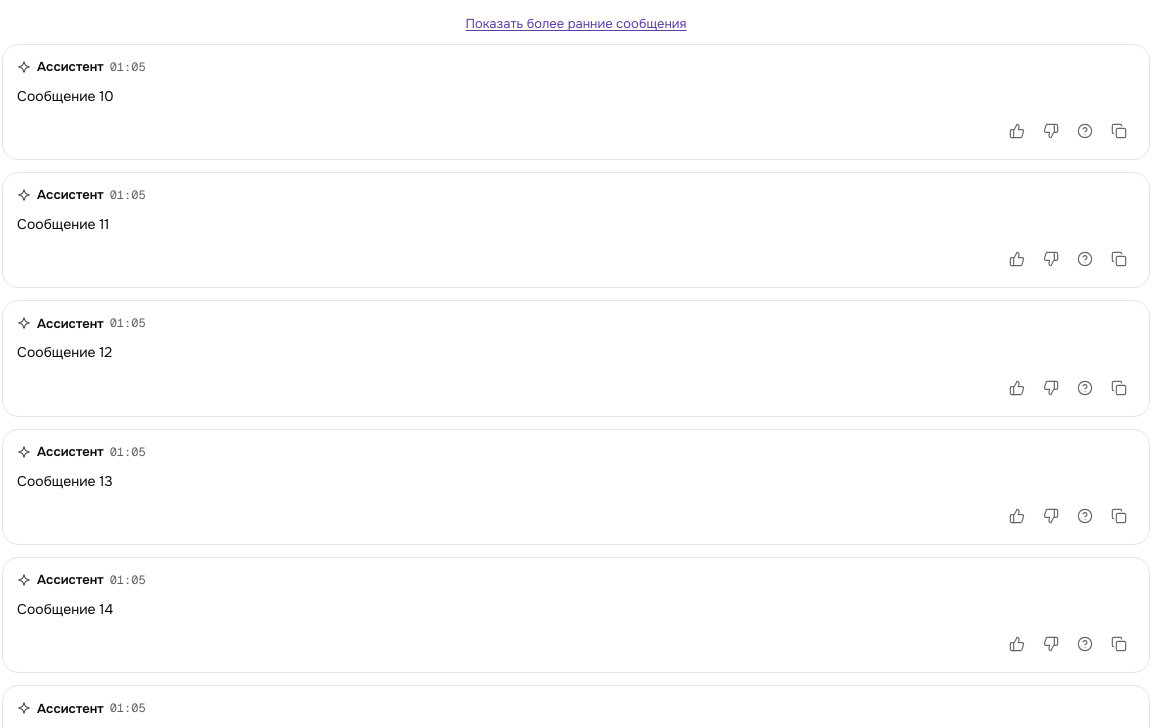
Test: M13: снимок обрезан — «Показать более ранние сообщения» дочитывает ленту
Click the button with class "chat__more": (576, 24) [466,14,686,34]
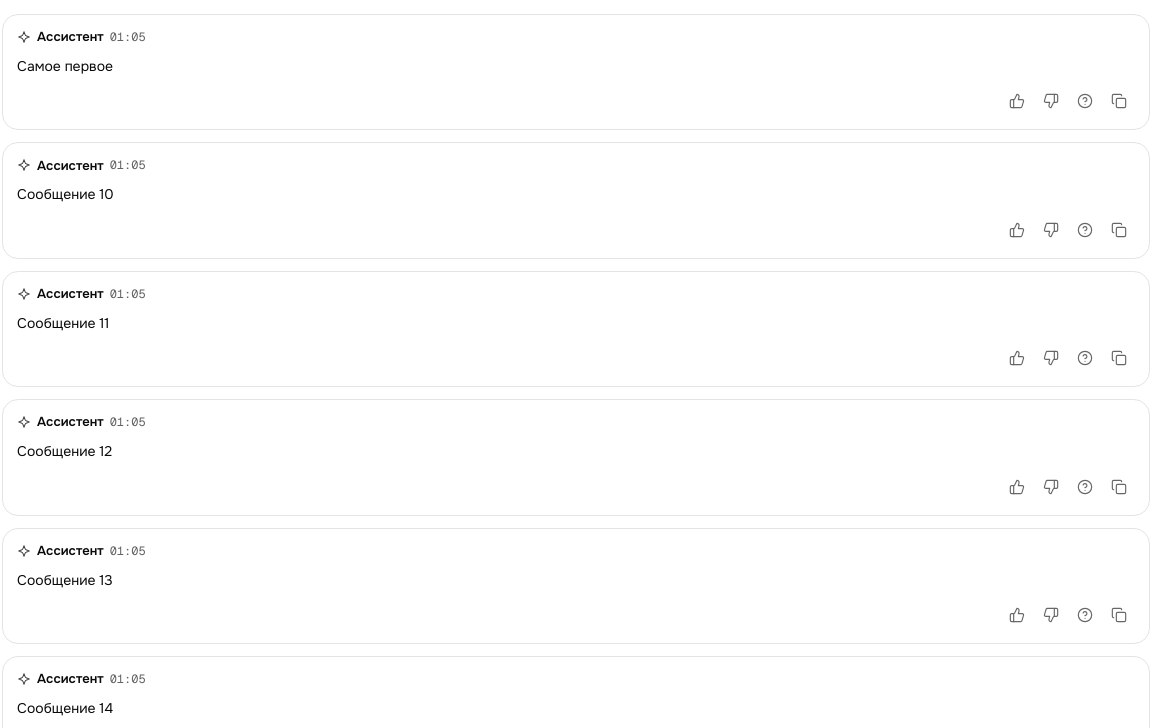
Check: the button with class "chat__more" is gone
